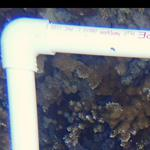dead: (40, 58, 146, 146)
